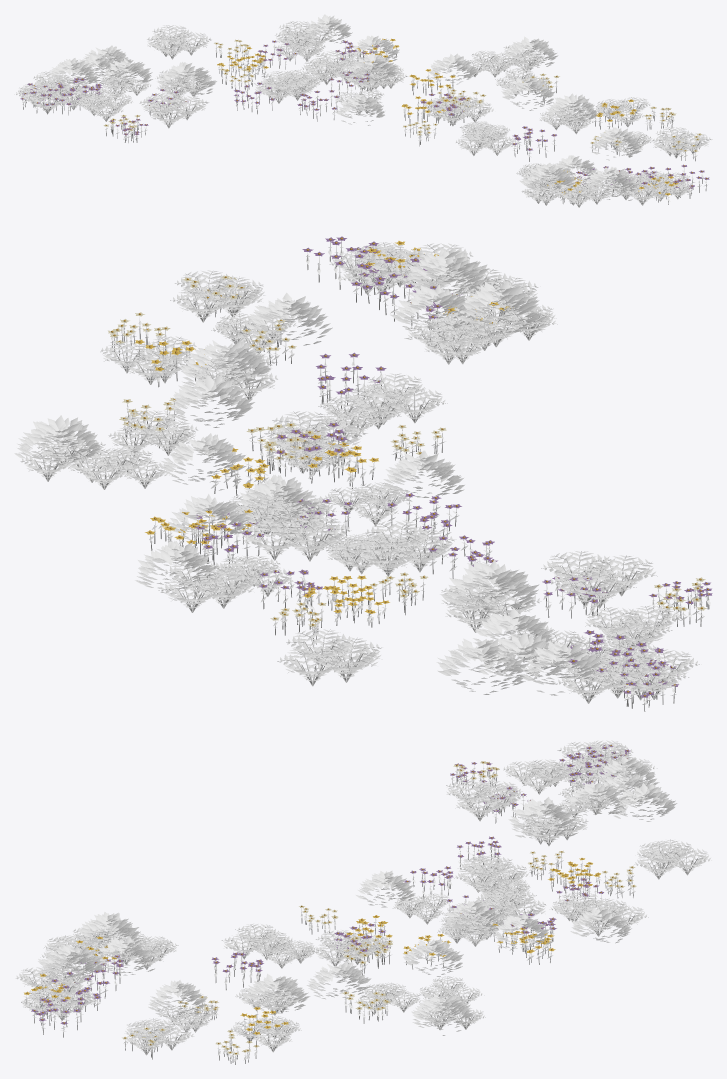
The model's file is SM_DF_Nature_3_3_Flora.fbx.
3 views of the same model, one above another, from view 1: azimuth 30°, elevation 25°; view 2: azimuth 150°, elevation 25°; view 3: azimuth 270°, elevation 25° (orthographic). The views are drawn at different scales.
Parts seen in each view (by area): view 1: SM_DF_Nature_3_3_Flora; view 2: SM_DF_Nature_3_3_Flora; view 3: SM_DF_Nature_3_3_Flora.
Boxes of the visible parts, x1=… form: SM_DF_Nature_3_3_Flora: x1=16, y1=14, x2=712, y2=207; SM_DF_Nature_3_3_Flora: x1=14, y1=236, x2=712, y2=711; SM_DF_Nature_3_3_Flora: x1=16, y1=740, x2=711, y2=1064.
Size of the model in its own units: 2107 by 2160 by 200.
